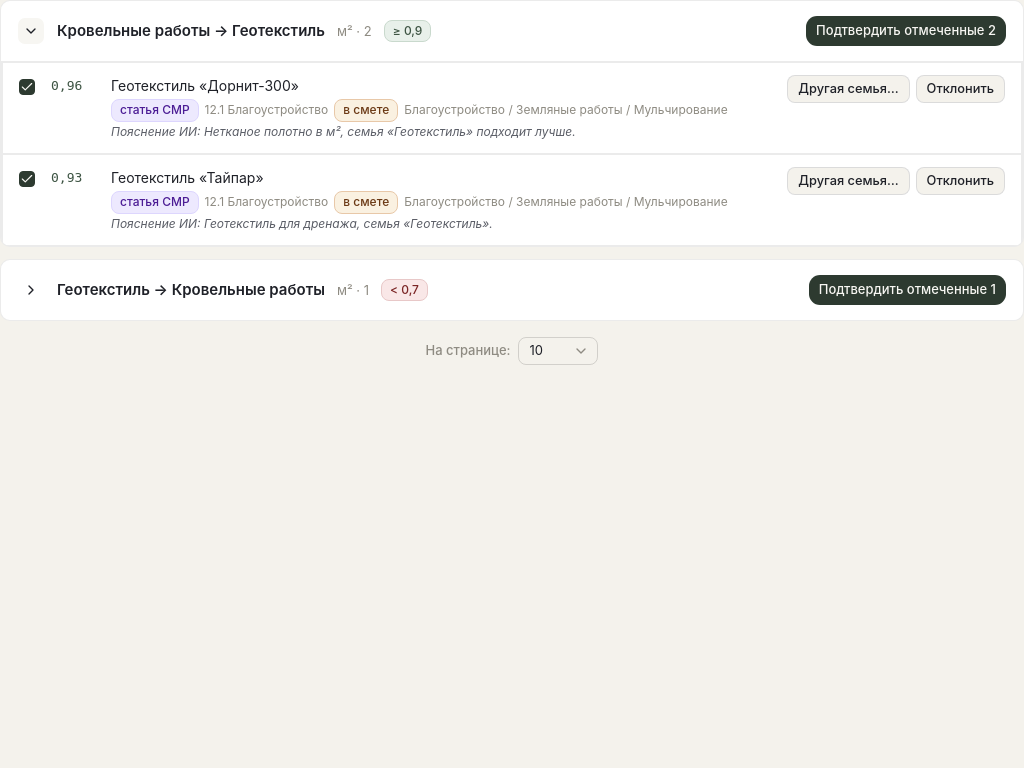
Test: ChangeQueue › «Другая семья…» в очереди смены не утверждает назначения: у контекста с вариантом оно ждёт значений
This screenshot has width=1024, height=768.
Step 1. Click the button "Другая семья…" in the row of "Геотекстиль «Дорнит-300»" → (848, 89), box x1=787 y1=75 x2=910 y2=103
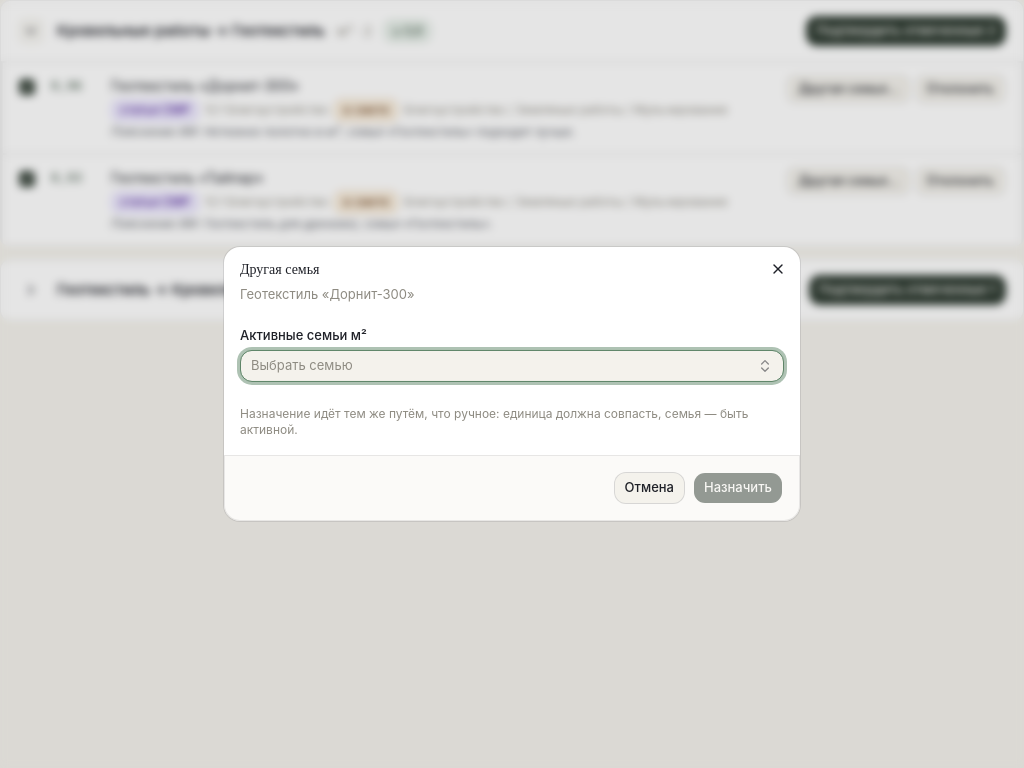
Step 2. Click the dropdown named "Активные семьи м²" → (302, 365), box x1=240 y1=350 x2=784 y2=382
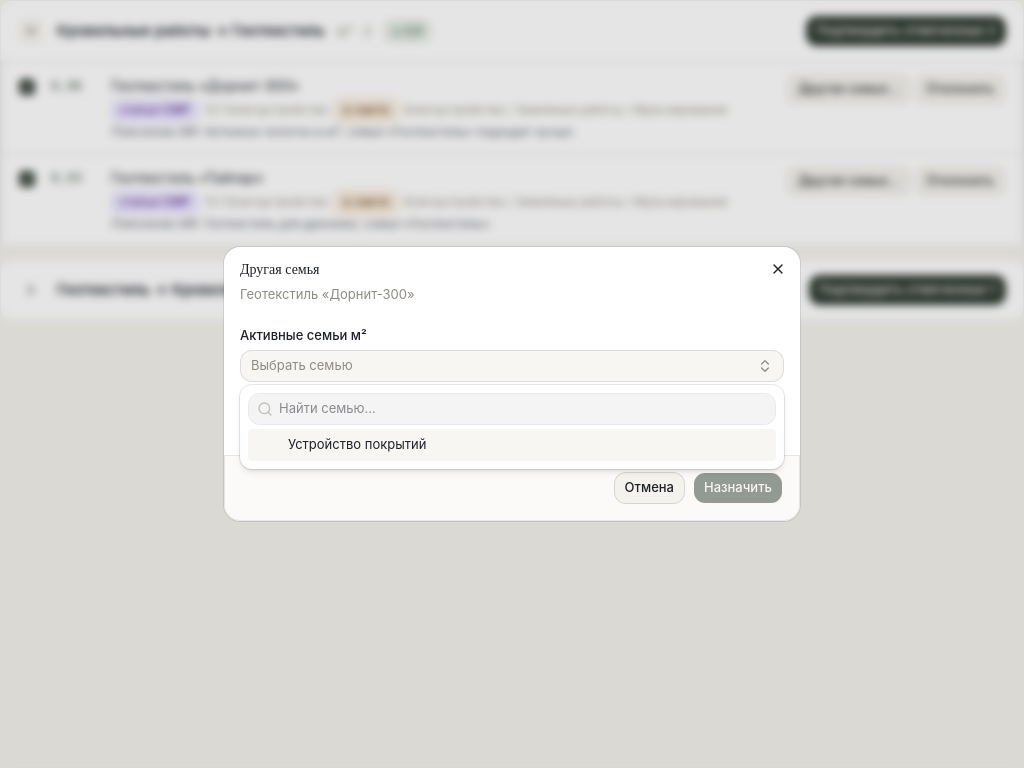
Step 3. Click the option "Устройство покрытий" → (357, 444), box x1=248 y1=429 x2=776 y2=460
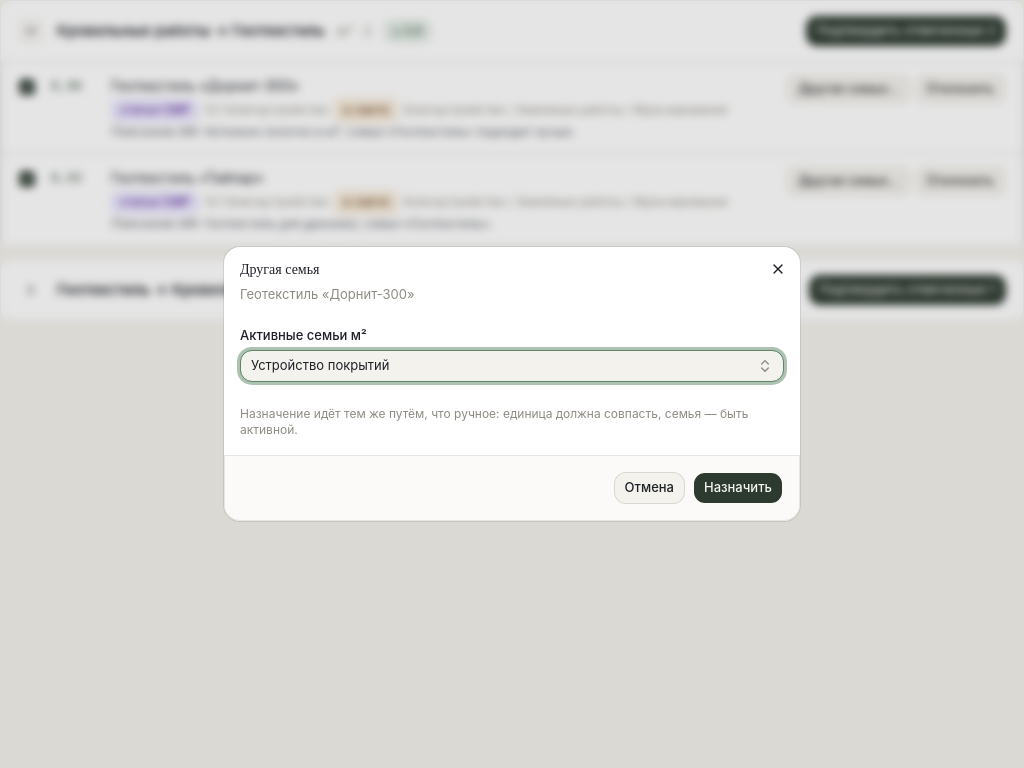
Step 4. Click the button "Назначить" → (738, 488), box x1=693 y1=472 x2=783 y2=504
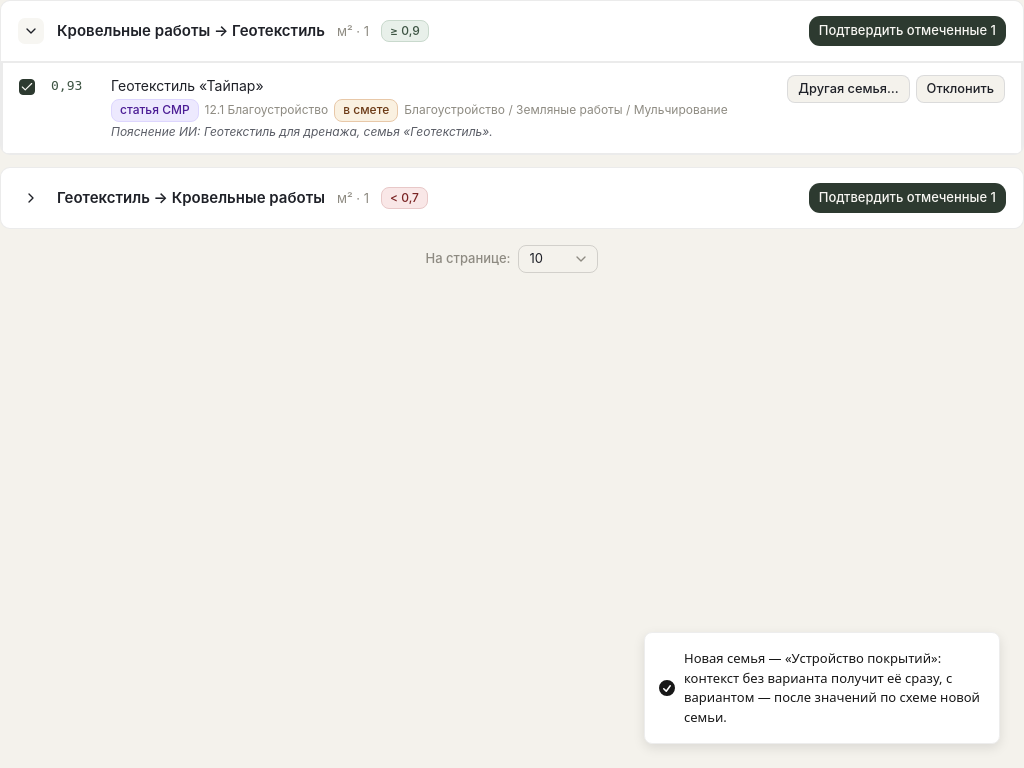
Expected: the text "после значений по схеме новой семьи" is shown, x1=684 y1=649 x2=980 y2=726
